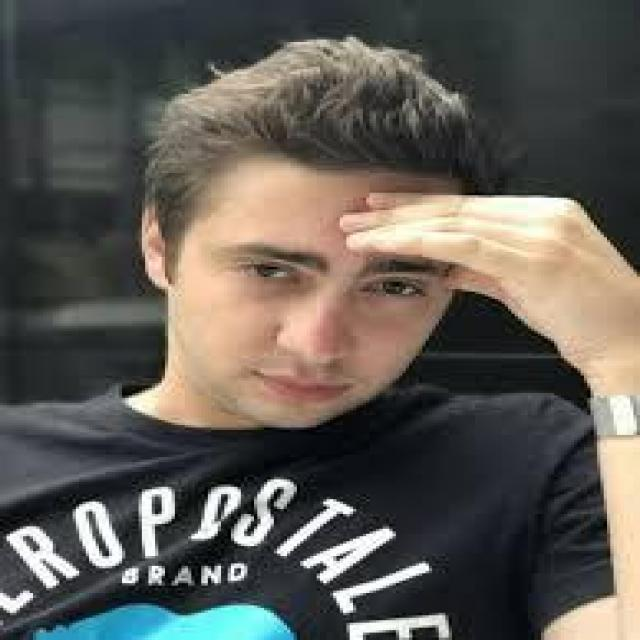person: (3, 37, 637, 635)
